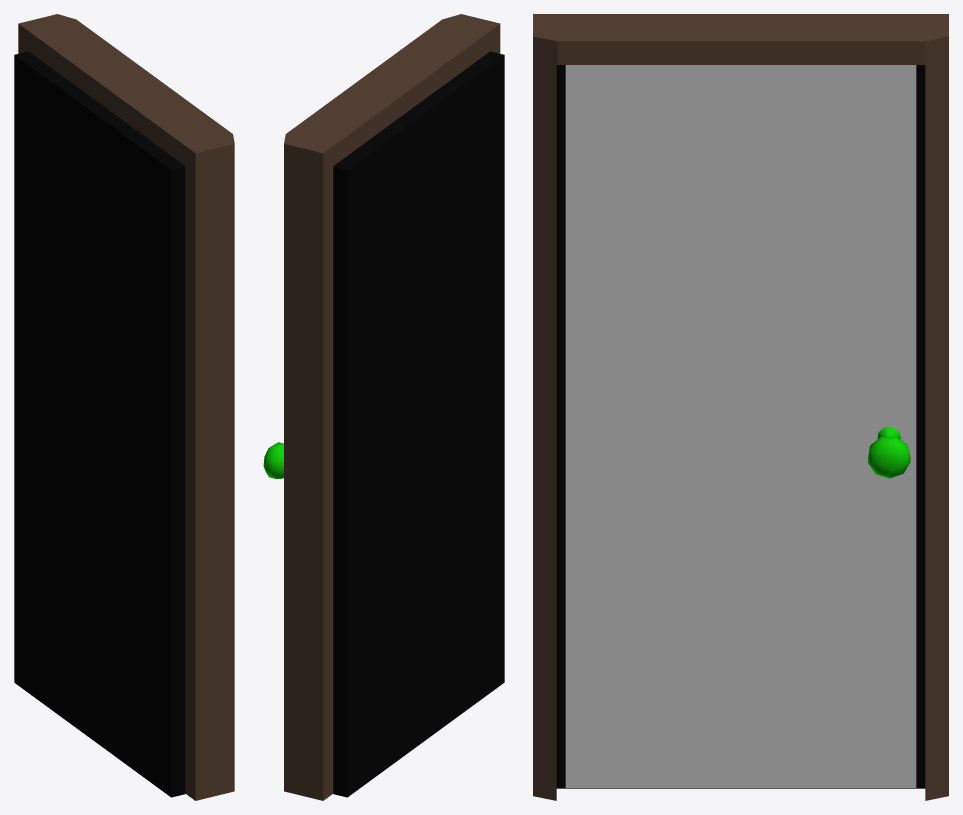
The model's file is door.fbx.
The picture shows the model from 3 angles, left to right: view 1: azimuth 30°, elevation 25°; view 2: azimuth 150°, elevation 25°; view 3: azimuth 270°, elevation 25°; orthographic projection. The views are drawn at different scales.
Visible parts, largest first — view 1: Door_Darkarea, Door_Frame; view 2: Door_Darkarea, Door_Frame, Plane; view 3: Door, Door_Frame, Door_Darkarea, Plane.
Boxes of the visible parts, box(x1,y1,x2,y2) form: Door_Darkarea: box(14, 51, 185, 797); Door_Frame: box(18, 14, 234, 800); Door_Darkarea: box(333, 51, 504, 797); Door_Frame: box(284, 14, 500, 800); Plane: box(263, 442, 283, 478); Door: box(565, 65, 916, 787); Door_Frame: box(533, 14, 948, 800); Door_Darkarea: box(556, 65, 925, 788); Plane: box(868, 427, 910, 478).
Bounding box in the file's own units: 73.32 × 479 × 237.
